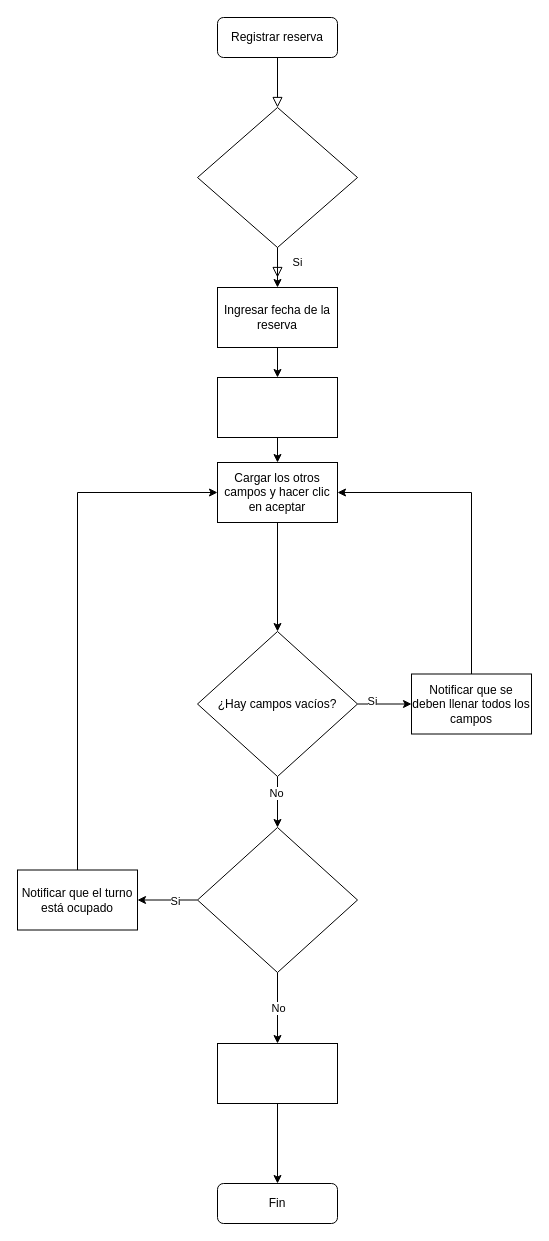
This 549x1241 diagram has some shape labels left out. The shapes that lost their labels are listed below. From the top down, each one's centre as x and y in pixels, then its label:
(277,177): Abrir formulario de reservas
(277,407): Mostrar canchas y horarios disponibles para esa fecha
(277,899): ¿El turno está ocupado?
(277,1073): Cargar reserva
